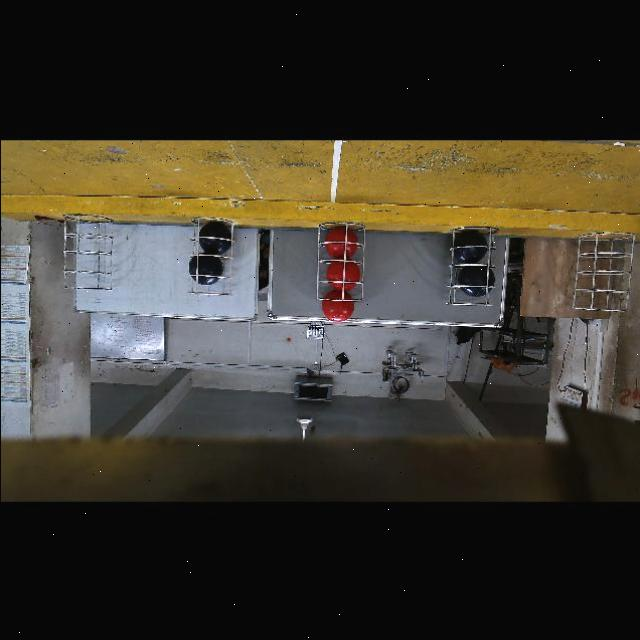P: (457, 261, 494, 295), (454, 227, 488, 262), (189, 251, 222, 283), (198, 221, 230, 253)
R: (326, 256, 360, 289), (321, 288, 353, 320), (325, 225, 356, 258)
S: (310, 212, 370, 308), (438, 223, 498, 304), (64, 210, 118, 292), (185, 213, 239, 295), (575, 253, 623, 313)
